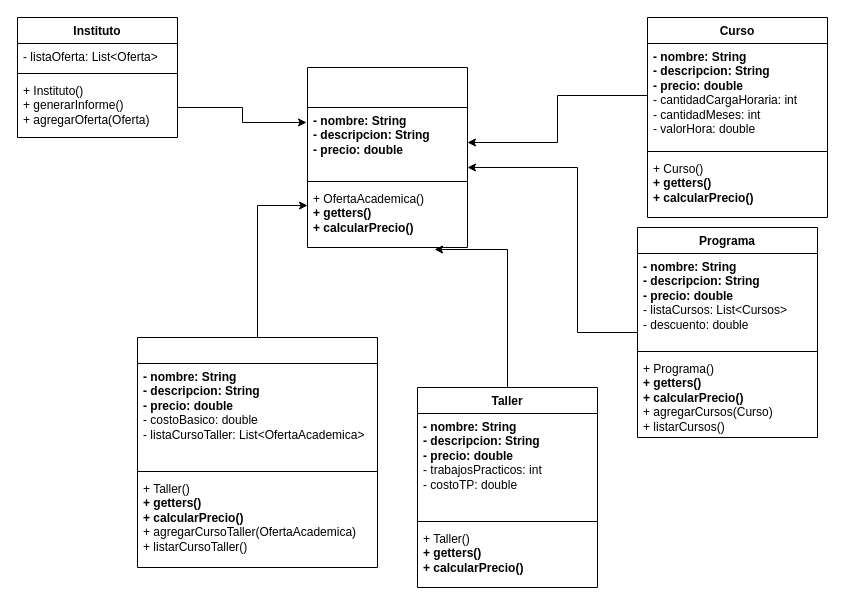
This 845x608 diagram has some shape labels left out. Here are the shapes that lost their labels. From the top down, the box of each, then its label:
(306, 66, 468, 248): <<Abstract>> OfertaAcademica
(136, 336, 378, 568): Carrera
